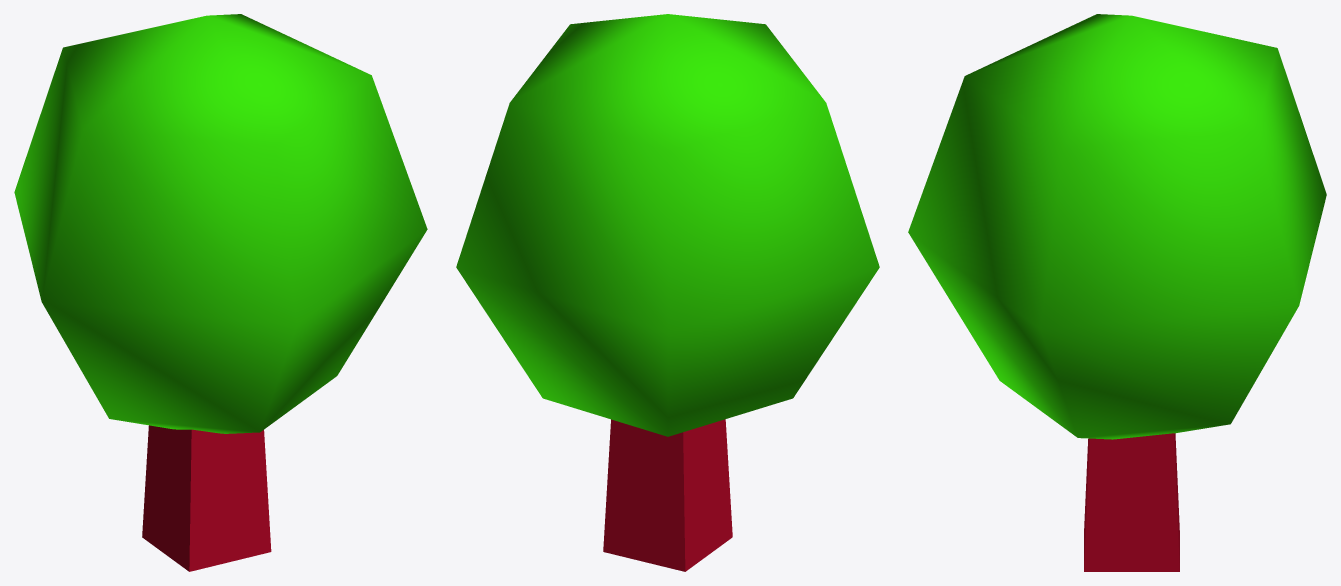
Rendered from Circular.fbx.
3 renders of one model, left to right at view 1: azimuth 30°, elevation 25°; view 2: azimuth 150°, elevation 25°; view 3: azimuth 270°, elevation 25°, orthographic.
Visible parts, largest first — view 1: Bush8; view 2: Bush8; view 3: Bush8.
Boxes of the visible parts, bbox=[...] form: Bush8: bbox=[14, 14, 427, 571]; Bush8: bbox=[456, 14, 879, 571]; Bush8: bbox=[908, 14, 1326, 571].
Size of the model in its own units: 4.22 by 5.86 by 4.15.
